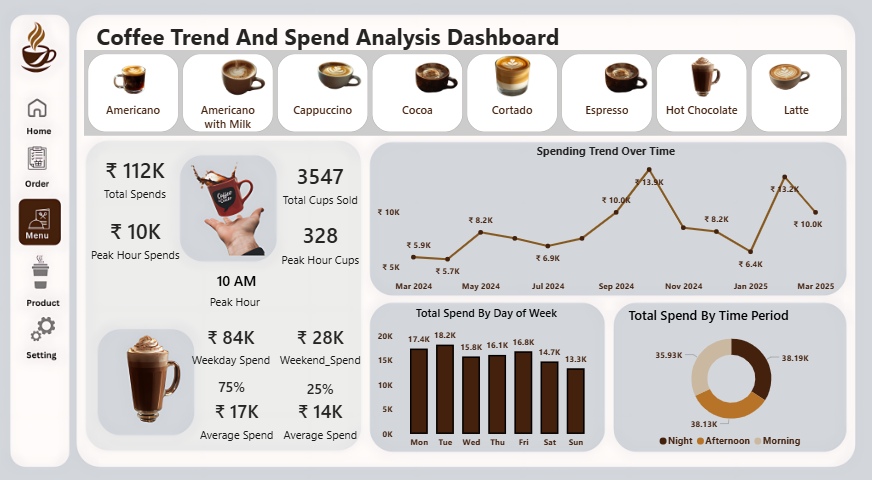

The page's visual inventory and layout, read from the dashboard file:
{"tool":"powerbi","page":{"name":"Page 1","canvas":[1280,720],"ordinal":0},"visuals":[{"type":"textbox","box":[146.6,37.5,702.6,57.2],"z":0},{"type":"card","fields":{"Values":["coffee_data.Total_Spends"]},"box":[146.6,219.9,121.6,100.1],"z":1000},{"type":"card","fields":{"Values":["coffee_data.Total_Cups_Sold"]},"box":[407.6,236,134.1,84],"z":2000},{"type":"card","fields":{"Values":["coffee_data.Peak_Hour_Spends"]},"box":[132.3,312.8,148.4,91.2],"z":3000},{"type":"card","fields":{"Values":["coffee_data.Peak_Hour_Cups"]},"box":[407.6,320,134.1,89.4],"z":4000},{"type":"card","fields":{"Values":["coffee_data.Peak_Hour_Lable"]},"box":[286,389.7,134.1,80.4],"z":5000},{"type":"card","fields":{"Values":["coffee_data.Weekday_Spend"]},"box":[277.1,461.2,135.9,101.9],"z":6000},{"type":"card","fields":{"Values":["coffee_data.Weekend_Spend"]},"box":[407.6,461.2,134.1,101.9],"z":7000},{"type":"card","fields":{"Values":["coffee_data.% Weekday_Spend"]},"box":[300.3,530.9,91.2,87.6],"z":8000},{"type":"card","fields":{"Values":["coffee_data.% Weekend_Spend"]},"box":[439.8,541.7,69.7,67.9],"z":9000},{"type":"card","fields":{"Values":["coffee_data.Weekday_Average_Spend"]},"box":[287.8,575.6,132.3,87.6],"z":10000},{"type":"card","fields":{"Values":["coffee_data.Weekend_Average_Spend"]},"box":[407.6,575.6,134.1,87.6],"z":11000},{"type":"lineChart","title":"Spending Trend Over Time","fields":{"Y":["coffee_data.Total_Spends"],"Category":["coffee_data.Date.Variation.Date Hierarchy.Year","coffee_data.Date.Variation.Date Hierarchy.Quarter","coffee_data.Date.Variation.Date Hierarchy.Month"]},"box":[552.4,219.9,670.4,225.3],"z":12000},{"type":"clusteredColumnChart","title":"Total Spend By Day  of Week","fields":{"Category":["coffee_data.Weekday"],"Y":["Sum(coffee_data.money(Rs))"]},"box":[552.4,454.1,325.4,216.3],"z":13000},{"type":"donutChart","title":"Total Spend  By Time Period","fields":{"Category":["coffee_data.Time_of_Day"],"Y":["Sum(coffee_data.money(Rs))"]},"box":[915.3,455.9,307.5,214.5],"z":14000},{"type":"advancedSlicerVisual","fields":{"Values":["coffee_data.coffee_name"]},"box":[133,85.3,1103.1,124.3],"z":15000}]}

Visuals, with their boxes in screenshot pixels (x1, y1, x2, y2):
textbox: (left=51, top=13, right=512, bottom=51)
card - coffee_data.Total_Spends: (left=51, top=133, right=131, bottom=199)
card - coffee_data.Total_Cups_Sold: (left=222, top=144, right=310, bottom=199)
card - coffee_data.Peak_Hour_Spends: (left=41, top=194, right=139, bottom=254)
card - coffee_data.Peak_Hour_Cups: (left=222, top=199, right=310, bottom=257)
card - coffee_data.Peak_Hour_Lable: (left=142, top=244, right=230, bottom=297)
card - coffee_data.Weekday_Spend: (left=136, top=291, right=226, bottom=358)
card - coffee_data.Weekend_Spend: (left=222, top=291, right=310, bottom=358)
card - coffee_data.% Weekday_Spend: (left=152, top=337, right=212, bottom=395)
card - coffee_data.% Weekend_Spend: (left=243, top=344, right=289, bottom=389)
card - coffee_data.Weekday_Average_Spend: (left=143, top=366, right=230, bottom=424)
card - coffee_data.Weekend_Average_Spend: (left=222, top=366, right=310, bottom=424)
"Spending Trend Over Time" lineChart: (left=317, top=133, right=757, bottom=281)
"Total Spend By Day  of Week" clusteredColumnChart: (left=317, top=287, right=531, bottom=429)
"Total Spend  By Time Period" donutChart: (left=555, top=288, right=757, bottom=429)
advancedSlicerVisual - coffee_data.coffee_name: (left=42, top=45, right=766, bottom=126)
